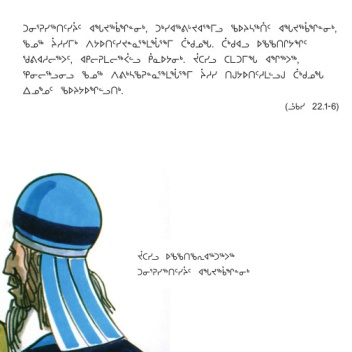inuktitut: (17, 19, 337, 34), (18, 65, 325, 80), (17, 50, 301, 66), (19, 36, 311, 48), (134, 262, 251, 278), (18, 82, 124, 98), (134, 249, 237, 261)
